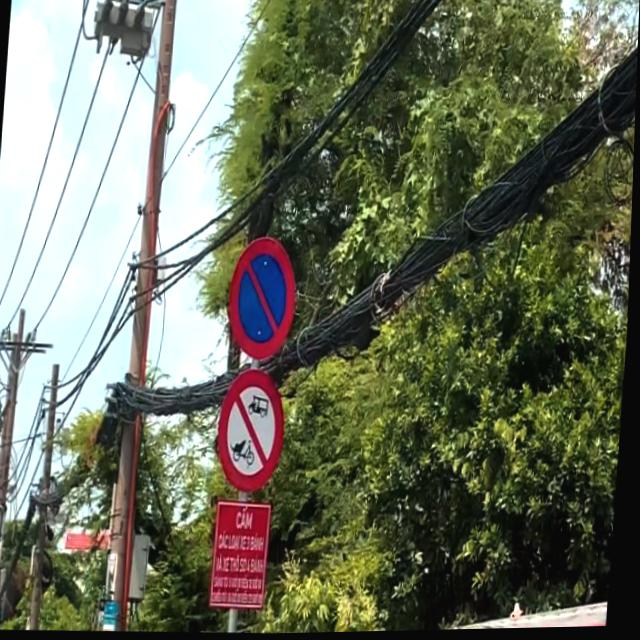Cam do xe: (225, 234, 302, 363)
